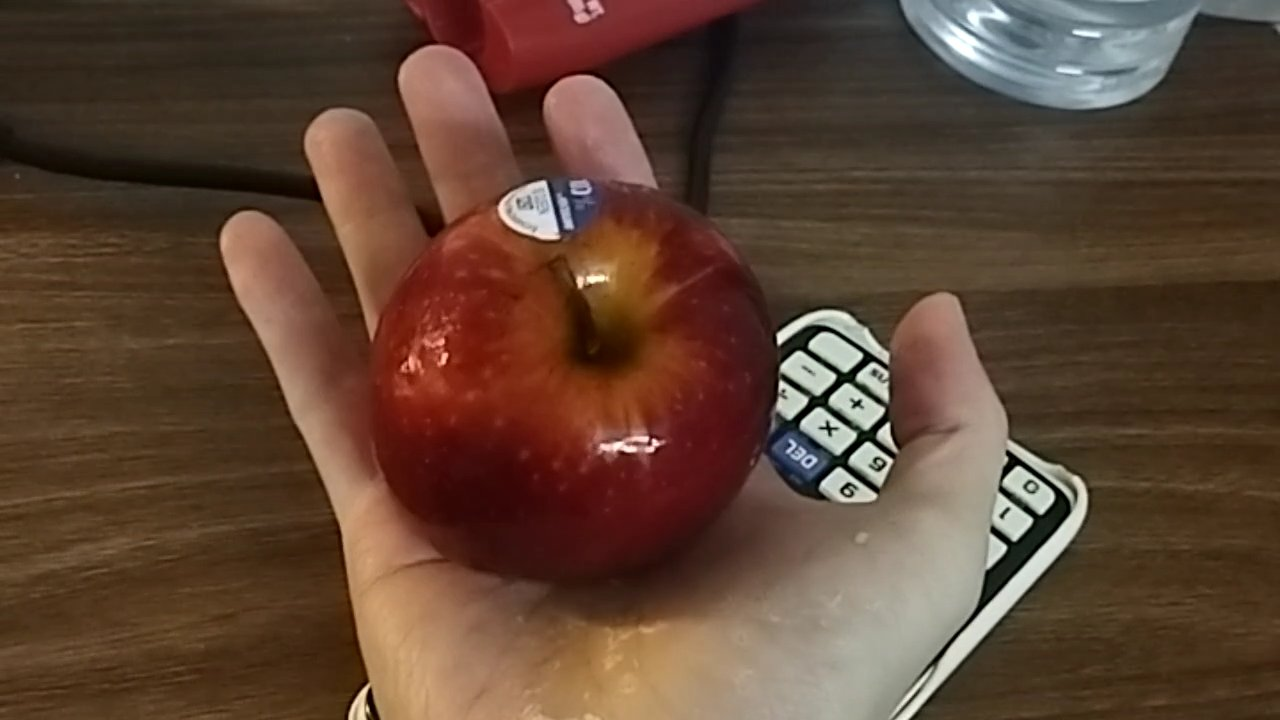apple_rotten: (362, 182, 781, 588)
